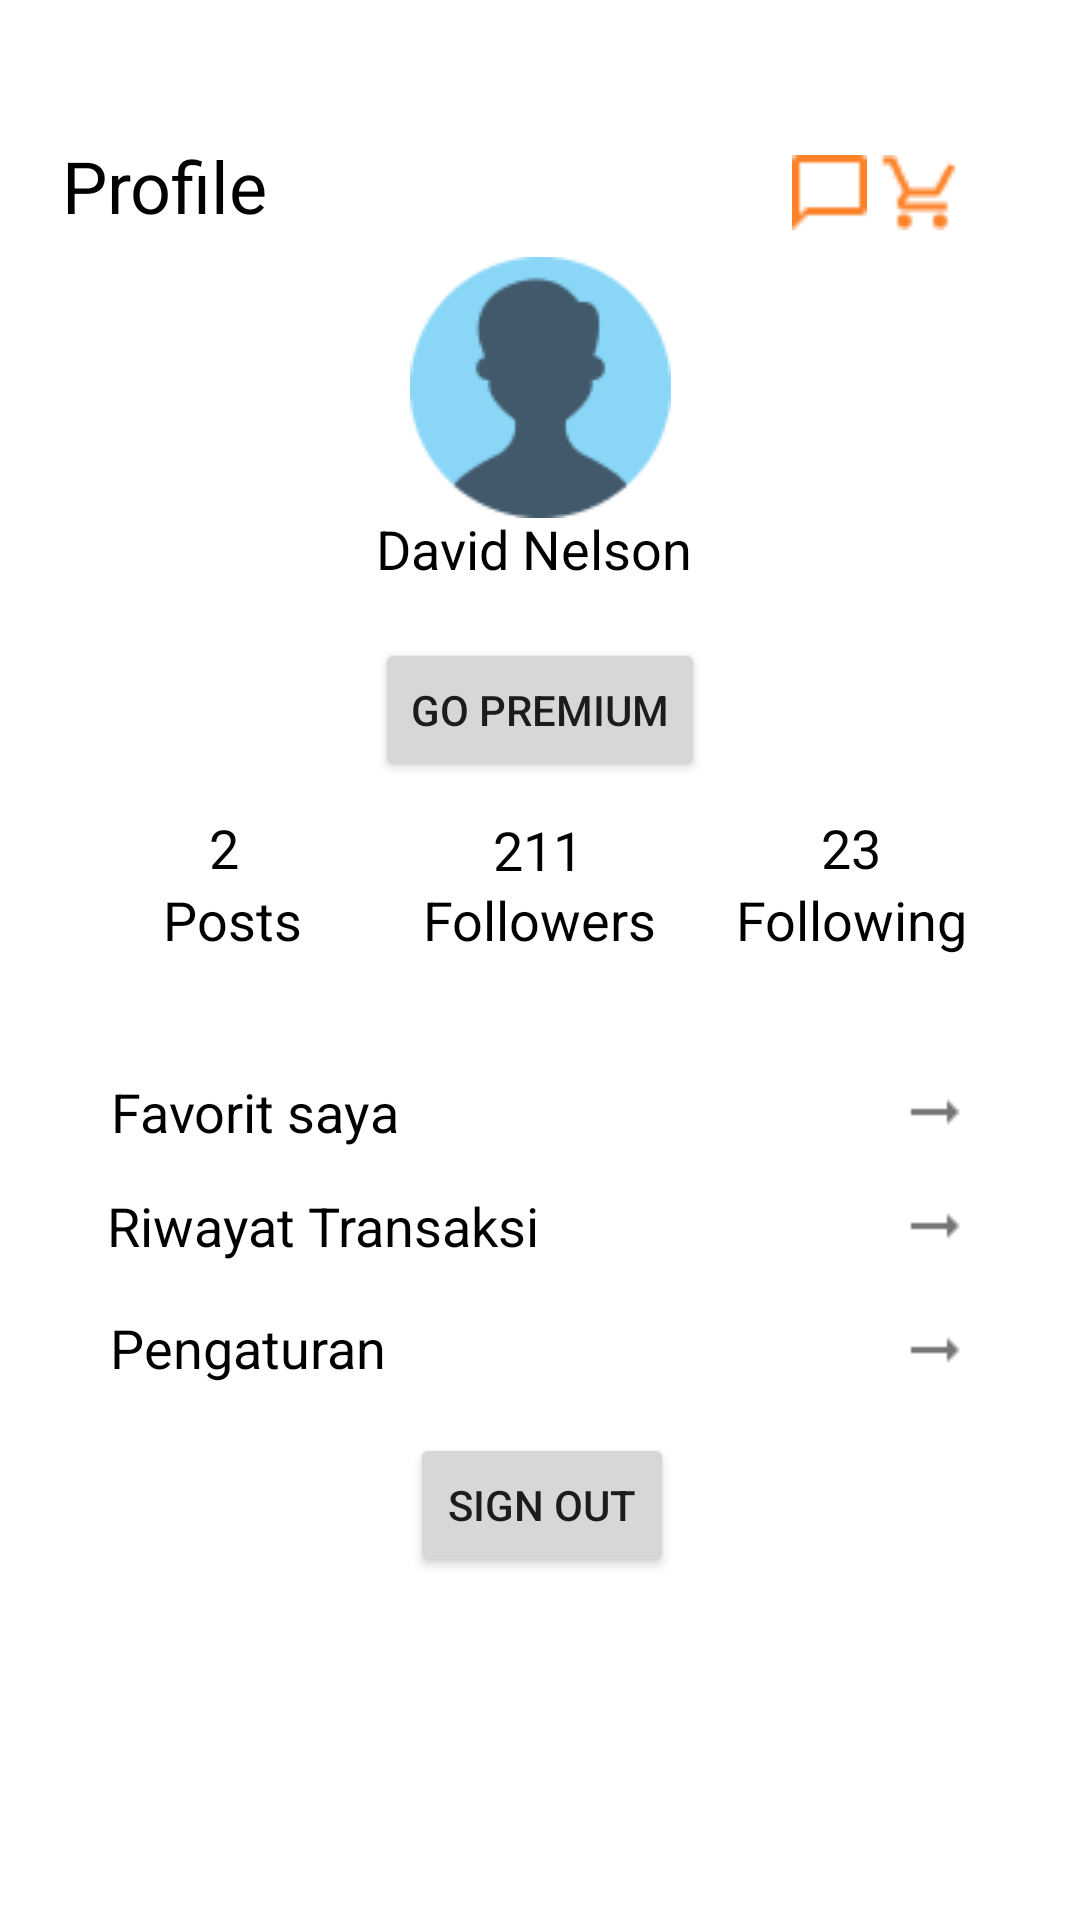

Point at icon controls on the screen. Image size 1080*1920, points as (x,y).
arrow: (934,1112), (934,1226), (934,1350)
cart: (918,192)
chat: (829,192)
